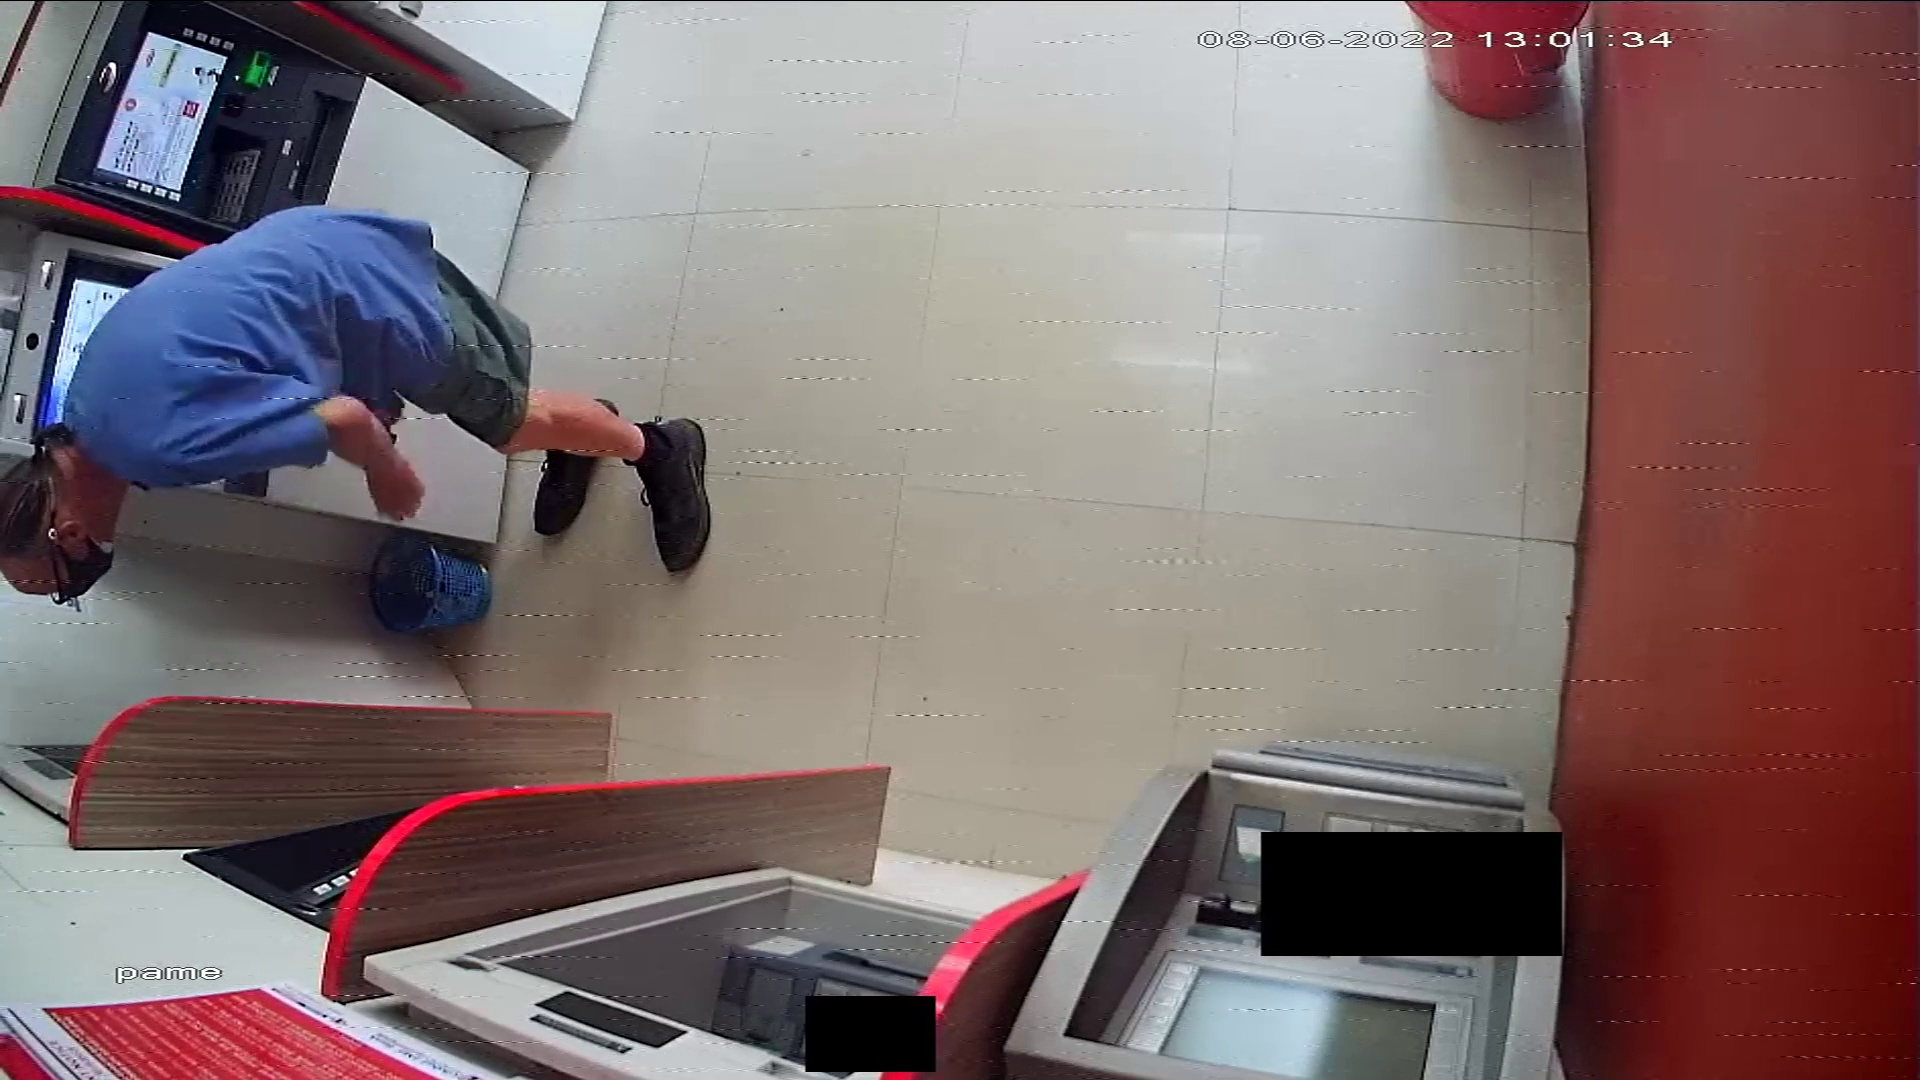person: (4, 199, 721, 608)
